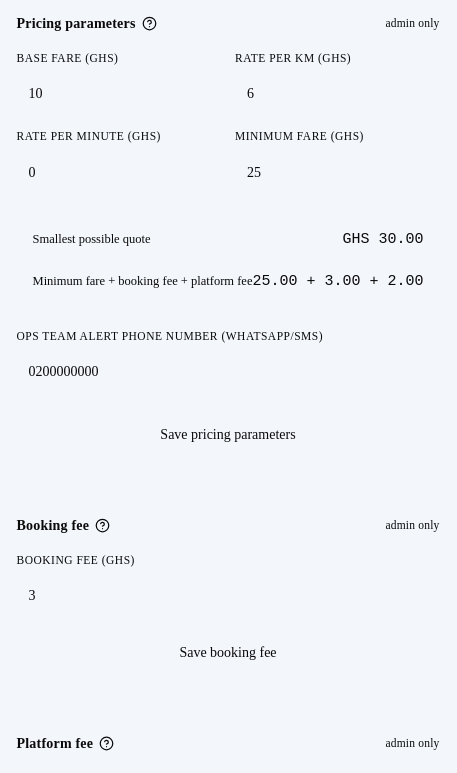
it: PricingForm smallest possible quote › marks the figure unsaved while a fee box differs from what is stored
Expected: the text "Smallest possible quote (unsaved)" is not shown
Replace the text in the number field labelled "Booking fee (GHS)" with "8" at (228, 596), box x1=16 y1=575 x2=440 y2=616
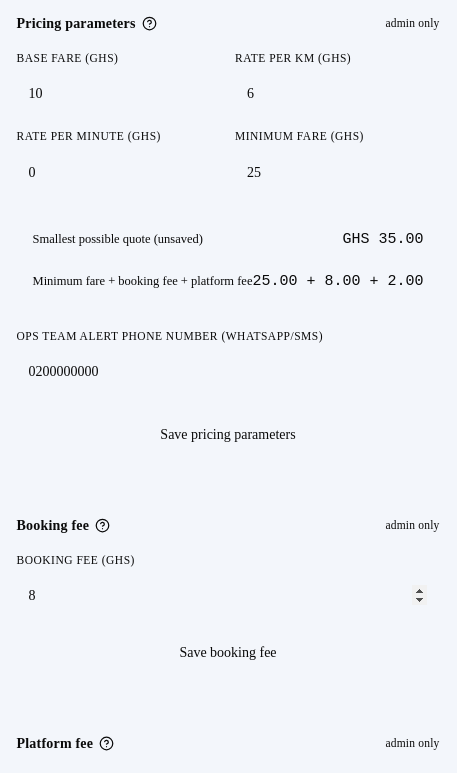
Result: the text "Smallest possible quote (unsaved)" is shown at x1=32 y1=230 x2=203 y2=248
Result: the text "GHS 35.00" is shown at x1=342 y1=228 x2=424 y2=251
